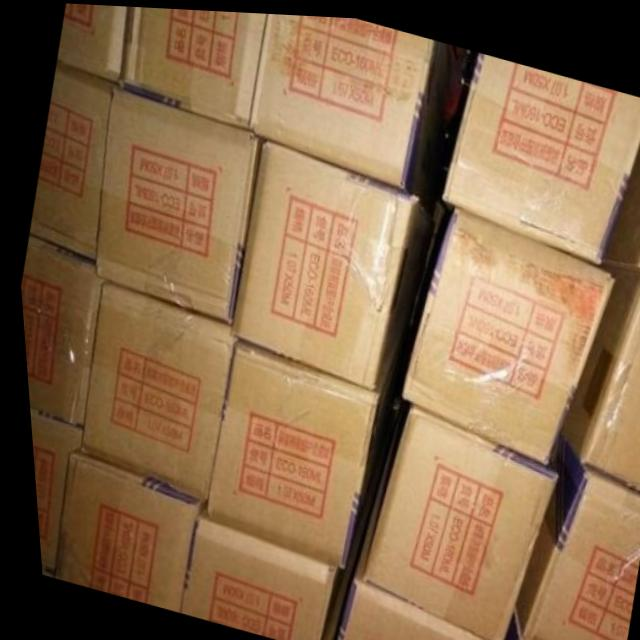box: (395, 201, 609, 460), (227, 135, 432, 386), (357, 400, 551, 640), (439, 47, 640, 256), (90, 77, 258, 323), (197, 336, 374, 564), (74, 280, 232, 500), (250, 11, 435, 185), (504, 431, 640, 640), (324, 482, 485, 640), (43, 449, 195, 610), (169, 508, 328, 640), (553, 258, 640, 488), (119, 5, 267, 125), (25, 60, 109, 261), (17, 234, 99, 427), (24, 406, 76, 577), (597, 134, 640, 265), (56, 3, 127, 79), (491, 608, 530, 640)
